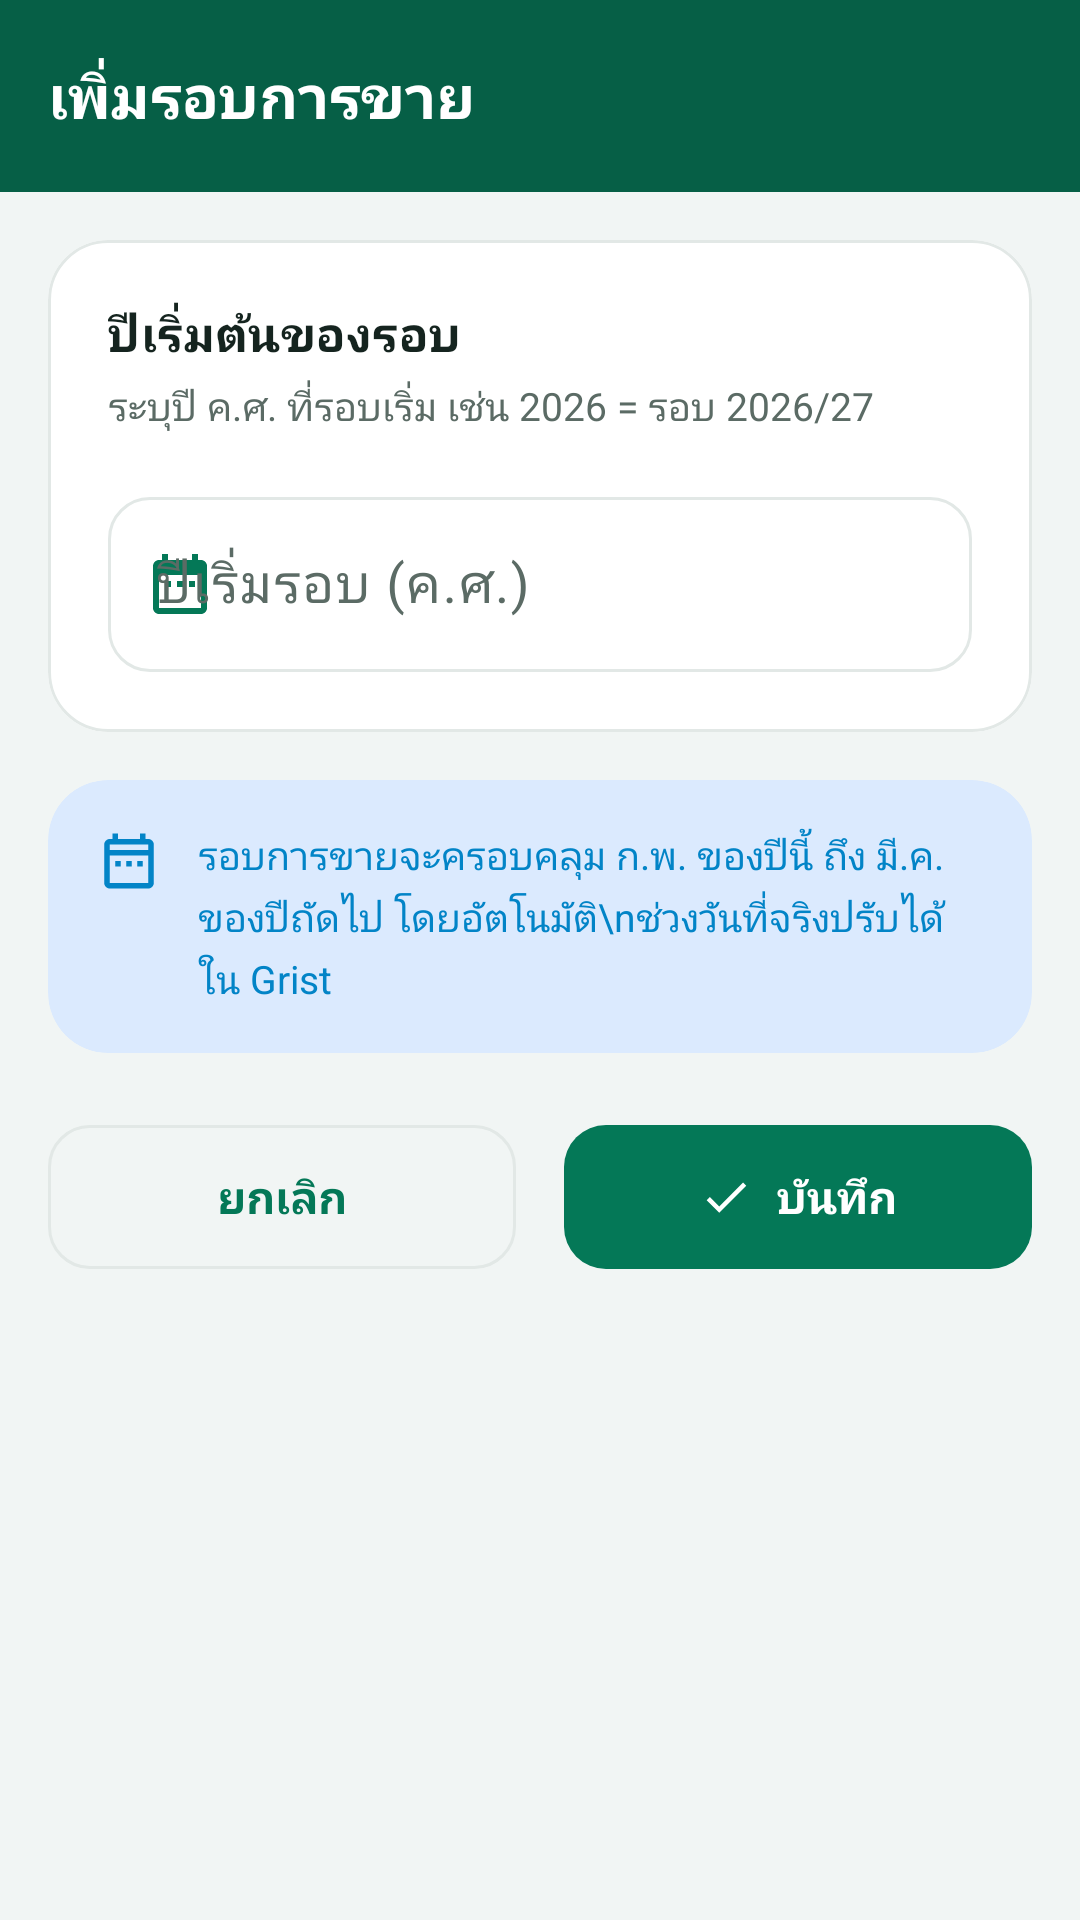

Point at icon controls on the screen. Image size 1080x1920, points as [x,y].
calendar: [129,861]
